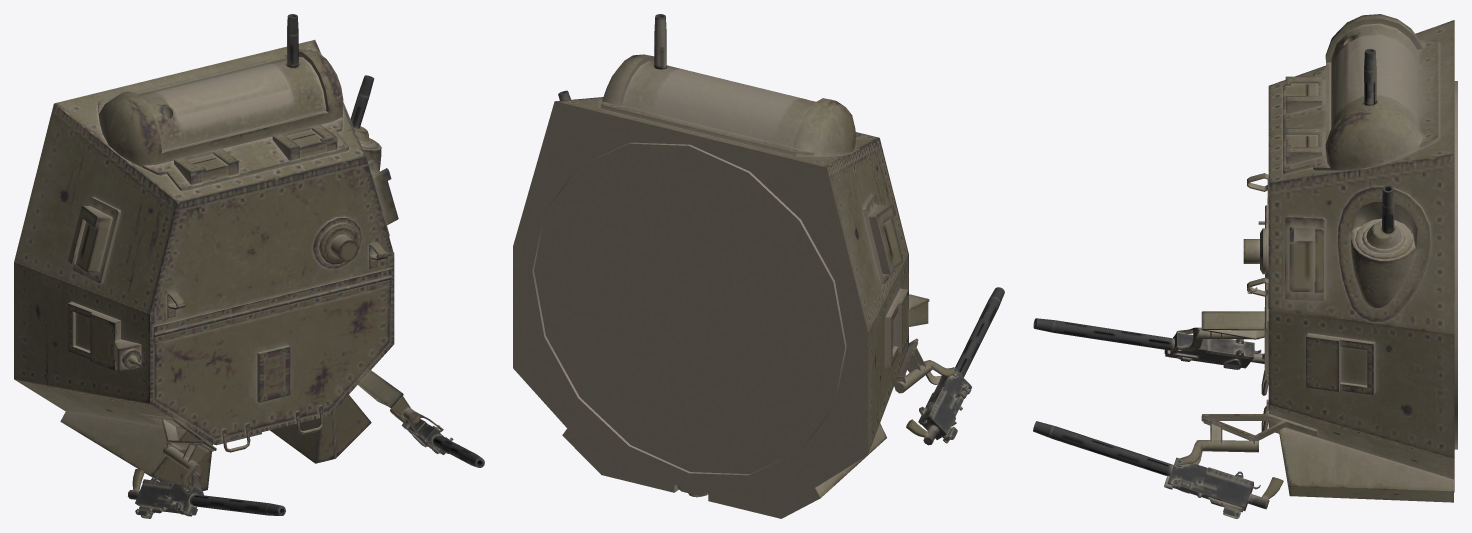
Rendered from Turret_01.glb.
The picture shows the model from 3 angles, left to right: view 1: azimuth 30°, elevation 25°; view 2: azimuth 150°, elevation 25°; view 3: azimuth 270°, elevation 25°; orthographic projection. The views are drawn at different scales.
Visible parts, largest first — view 1: set_0_group_0; view 2: set_0_group_0; view 3: set_0_group_0.
Boxes of the visible parts, left/top/right/bottom form: set_0_group_0: left=14, top=14, right=484, bottom=518; set_0_group_0: left=513, top=14, right=1004, bottom=518; set_0_group_0: left=1033, top=14, right=1457, bottom=518.
Bounding box in the file's own units: 1.66 × 1.94 × 1.69.
1 material, 1 textured.
